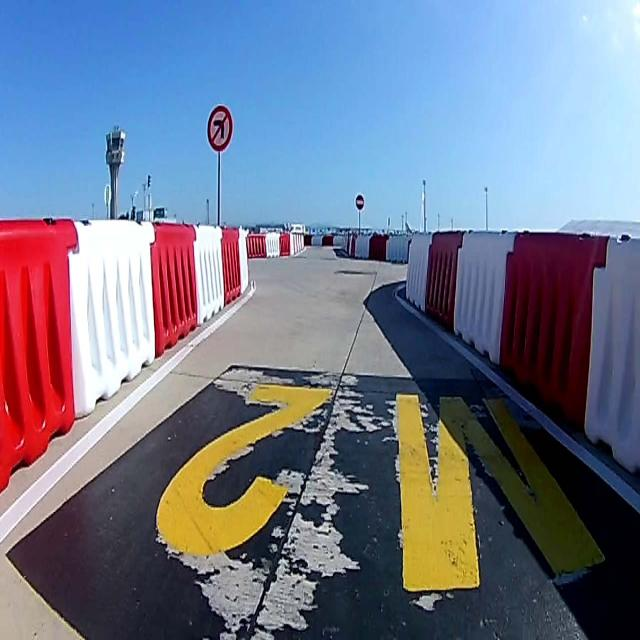girisyok: (355, 191, 365, 213)
soladonulmez: (206, 104, 232, 155)
